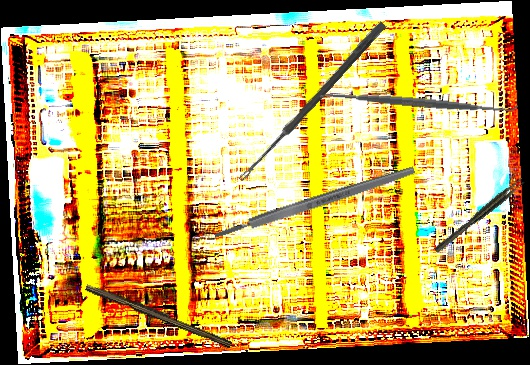Scalpel Handle: (212, 164, 417, 242), (84, 281, 234, 349)
Spatula Surgical: (319, 82, 519, 122)
Surgical Spoon: (237, 19, 387, 185)
Tissue Forceps: (431, 176, 527, 254)
